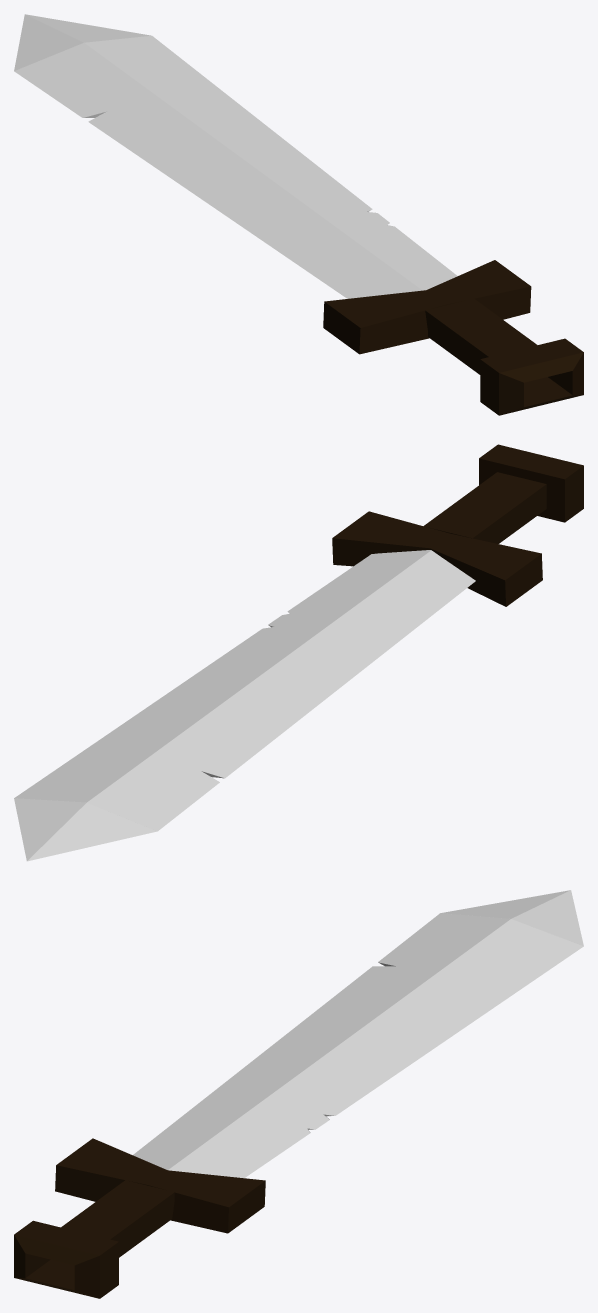
Rendered from espada.fbx.
The picture shows the model from 3 angles, top to bottom: view 1: azimuth 30°, elevation 25°; view 2: azimuth 150°, elevation 25°; view 3: azimuth 330°, elevation 25°; orthographic projection.
Parts seen in each view (by area): view 1: Filo, Mango; view 2: Filo, Mango; view 3: Filo, Mango.
Part boxes in pixels (left/top/right/bottom): Filo: left=14, top=14, right=457, bottom=298; Mango: left=323, top=260, right=583, bottom=415; Filo: left=14, top=550, right=475, bottom=861; Mango: left=332, top=444, right=583, bottom=606; Filo: left=133, top=890, right=583, bottom=1178; Mango: left=14, top=1138, right=265, bottom=1298.
Bounding box in the file's own units: 458 × 109 × 2397.
